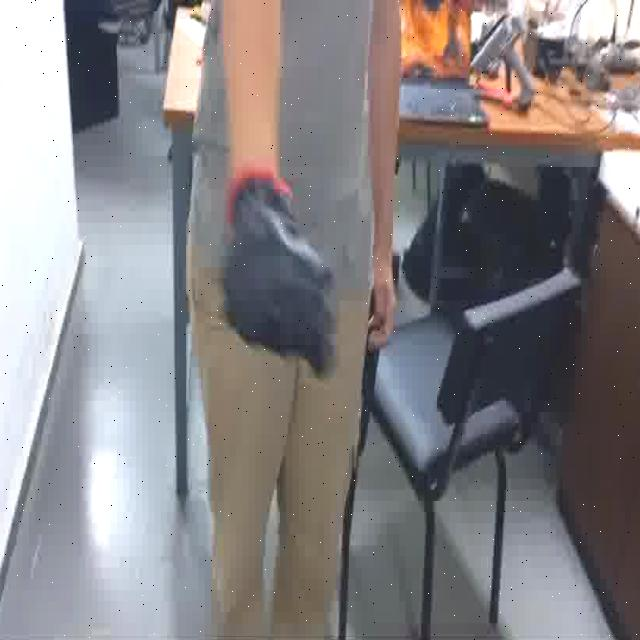Gloves: (214, 173, 342, 379)
